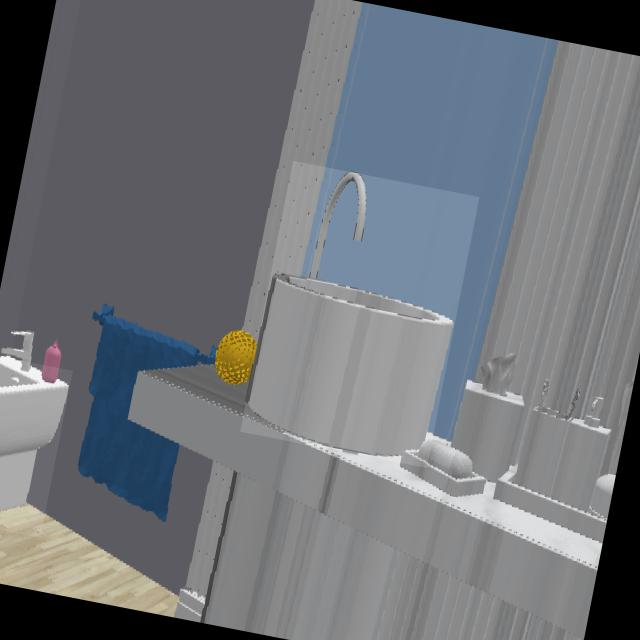washbasin: (245, 173, 454, 459), (0, 357, 69, 512)
